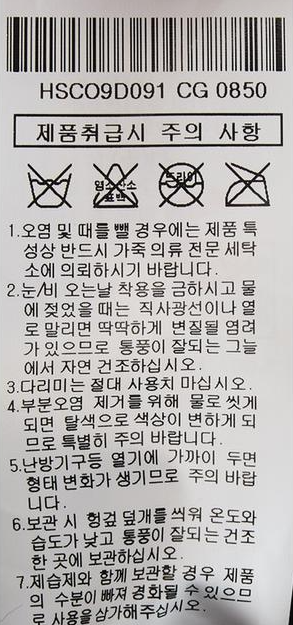KR_no_bleach: (88, 159, 143, 213)
KR_no_dry_clean: (153, 157, 207, 209)
KR_no_iron: (216, 158, 275, 212)
KR_no_wash: (23, 158, 76, 212)
